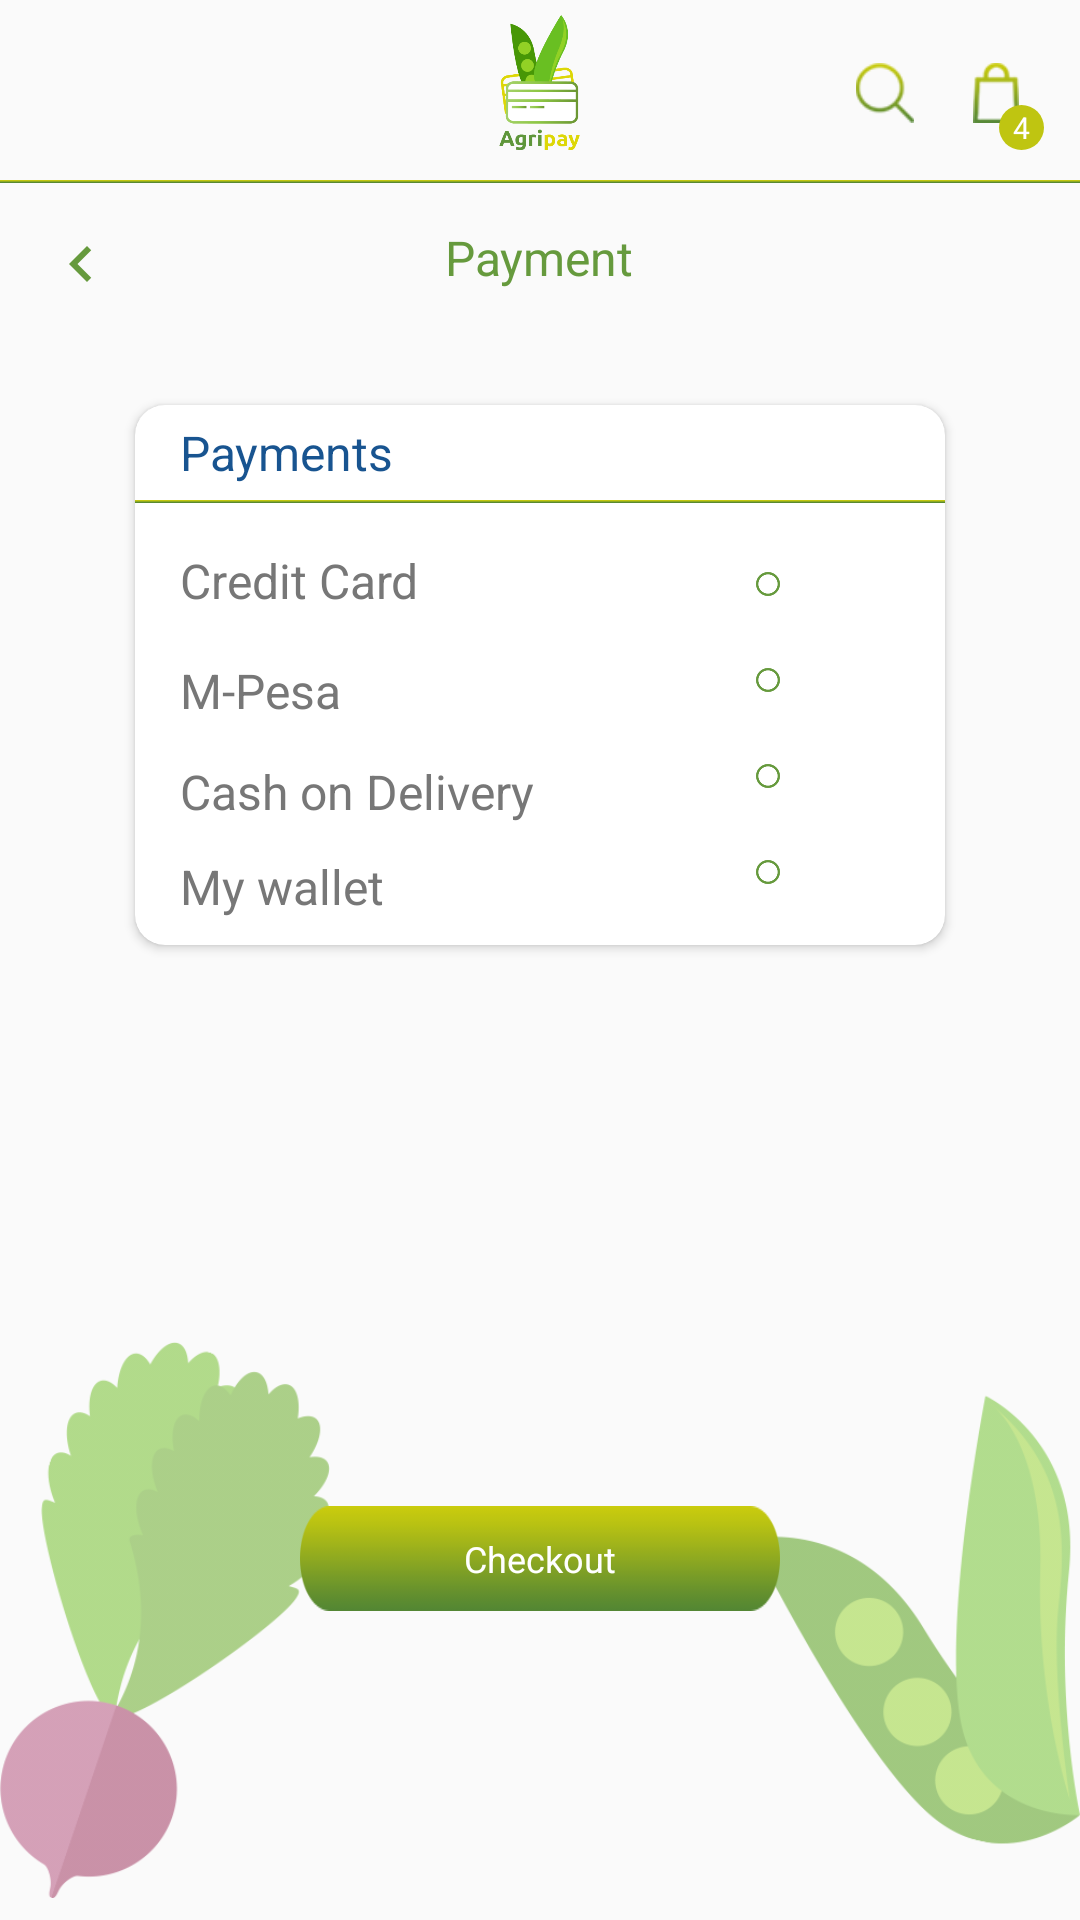

Icons on this 1080x1920 Android screen, each with its box as region(x1, y1, x2, y2):
chevron left: region(69, 246, 91, 282)
search: region(856, 63, 914, 123)
shop cart: region(973, 63, 1026, 123)
